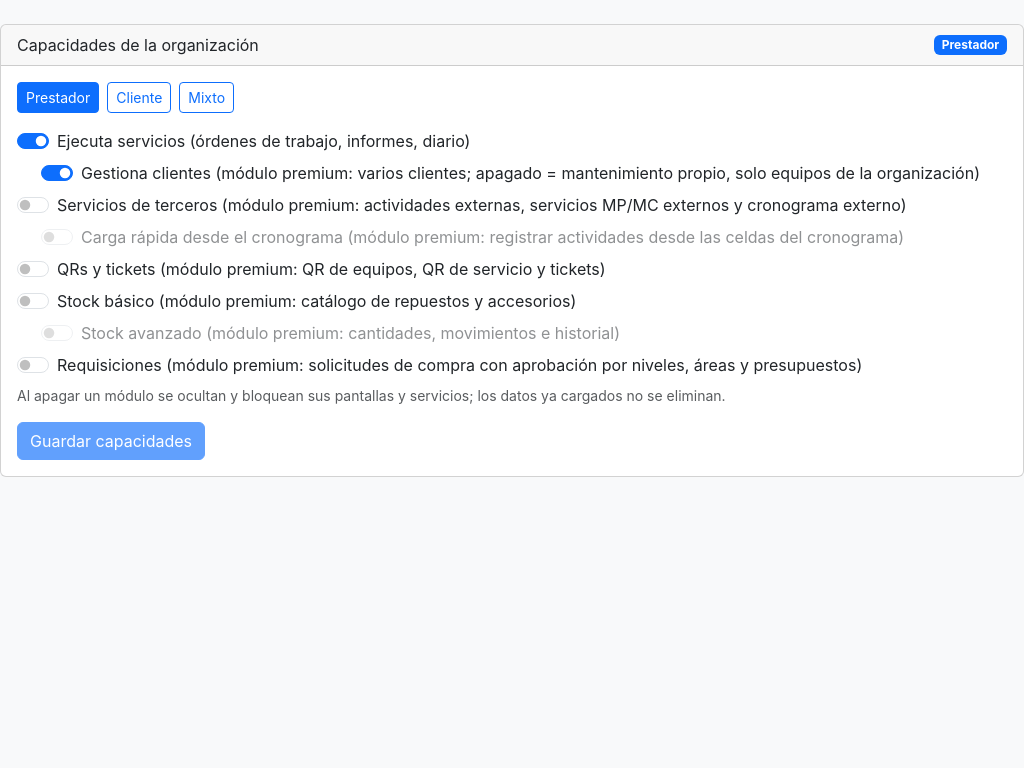
Test case: TenantCapabilitiesPanel › rejects leaving both flags off
Click the checkbox labelled "Ejecuta servicios (órdenes de trabajo, informes, diario)": (33, 141) x1=17 y1=133 x2=49 y2=149
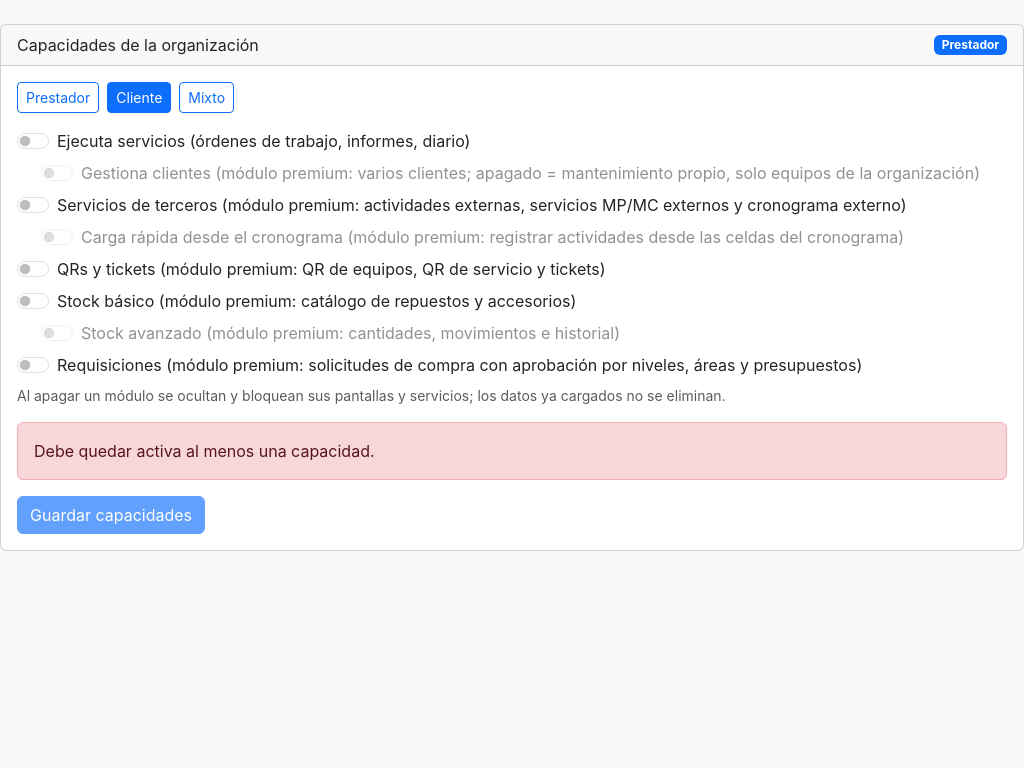
Expected: the button "Guardar capacidades" is disabled, x1=17 y1=496 x2=205 y2=534
Result: the text "Debe quedar activa al menos una capacidad." is shown at x1=17 y1=422 x2=1007 y2=480
